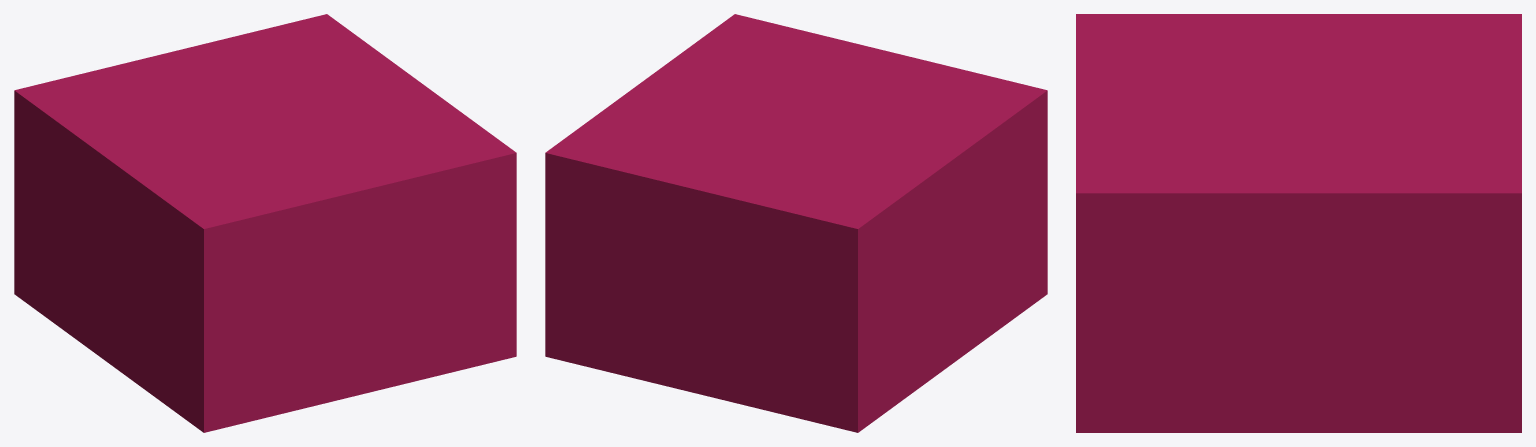
Rendered from longleaf_plant.DAE.
The picture shows the model from 3 angles, left to right: view 1: azimuth 30°, elevation 25°; view 2: azimuth 150°, elevation 25°; view 3: azimuth 270°, elevation 25°; orthographic projection. The views are drawn at different scales.
Visible parts, largest first — view 1: bounds; view 2: bounds; view 3: bounds.
Part boxes in pixels (left/top/right/bottom): bounds: left=14, top=14, right=516, bottom=432; bounds: left=545, top=14, right=1047, bottom=432; bounds: left=1076, top=14, right=1521, bottom=432.
Size of the model in its own units: 2.28 by 2.39 by 1.42.
